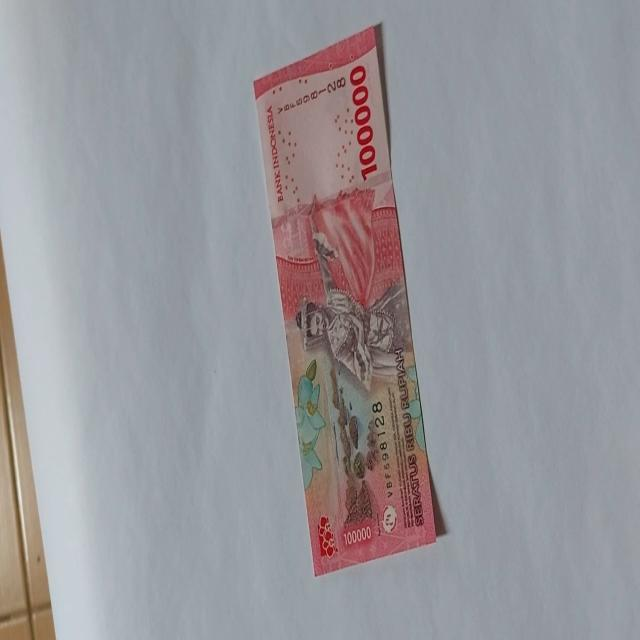seratus ribu rupiah: (252, 24, 437, 577)
